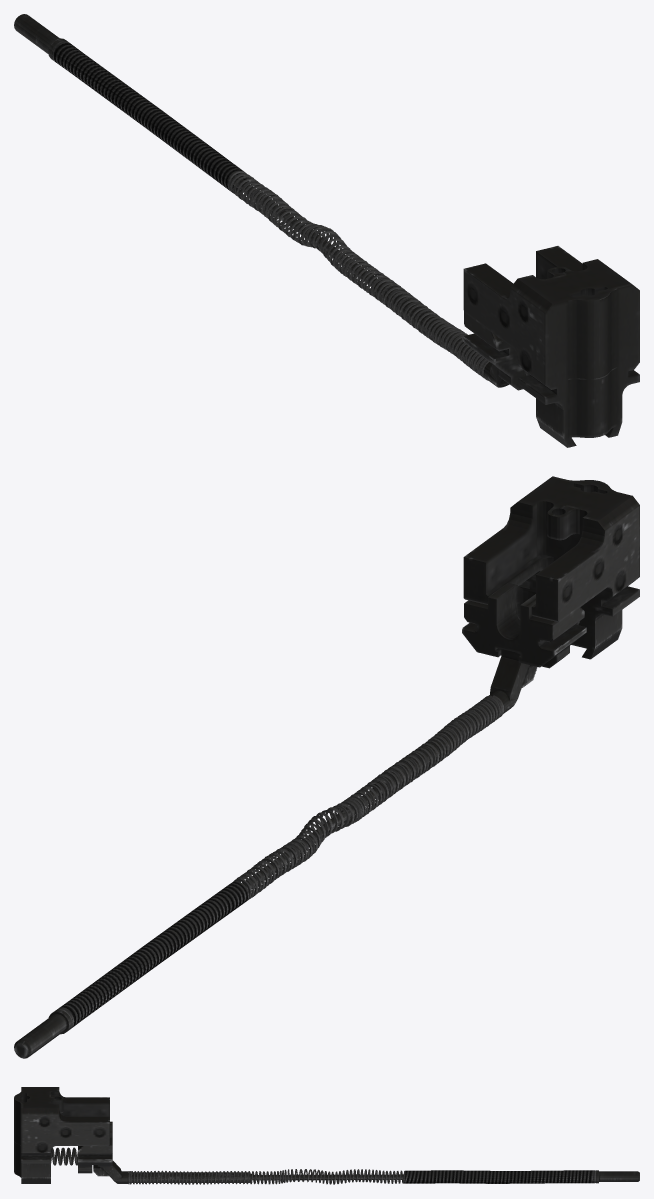
3 views of the same model, one above another, from view 1: azimuth 30°, elevation 25°; view 2: azimuth 150°, elevation 25°; view 3: azimuth 270°, elevation 25° (orthographic). The views are drawn at different scales.
Visible parts, largest first — view 1: TW_67d0576f29f580ebc10efd08_PZ_Import; view 2: TW_67d0576f29f580ebc10efd08_PZ_Import; view 3: TW_67d0576f29f580ebc10efd08_PZ_Import.
Part boxes in pixels (x1,y1,x2,y2): TW_67d0576f29f580ebc10efd08_PZ_Import: [14, 14, 639, 447]; TW_67d0576f29f580ebc10efd08_PZ_Import: [14, 476, 639, 1058]; TW_67d0576f29f580ebc10efd08_PZ_Import: [14, 1087, 639, 1184].
Bounding box in the file's own units: 0.0294 × 0.3114 × 0.0476.
1 material, 1 textured.
